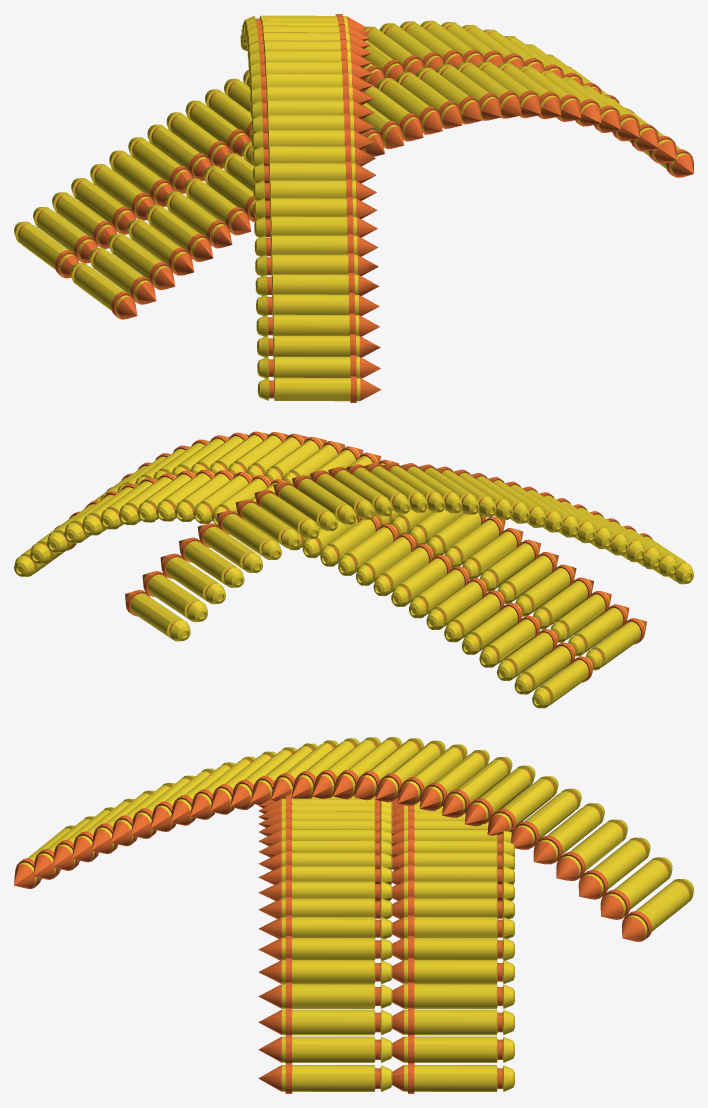
File: MGAmmo.fbx
The picture shows the model from 3 angles, top to bottom: view 1: azimuth 30°, elevation 25°; view 2: azimuth 150°, elevation 25°; view 3: azimuth 270°, elevation 25°; orthographic projection. The views are drawn at different scales.
Parts seen in each view (by area): view 1: MGammo; view 2: MGammo; view 3: MGammo.
Boxes of the visible parts, <box> form: MGammo: <box>14,14,693,402</box>; MGammo: <box>14,431,693,708</box>; MGammo: <box>14,737,693,1093</box>.
Bounding box in the file's own units: 29.39 × 27.48 × 8.83.
